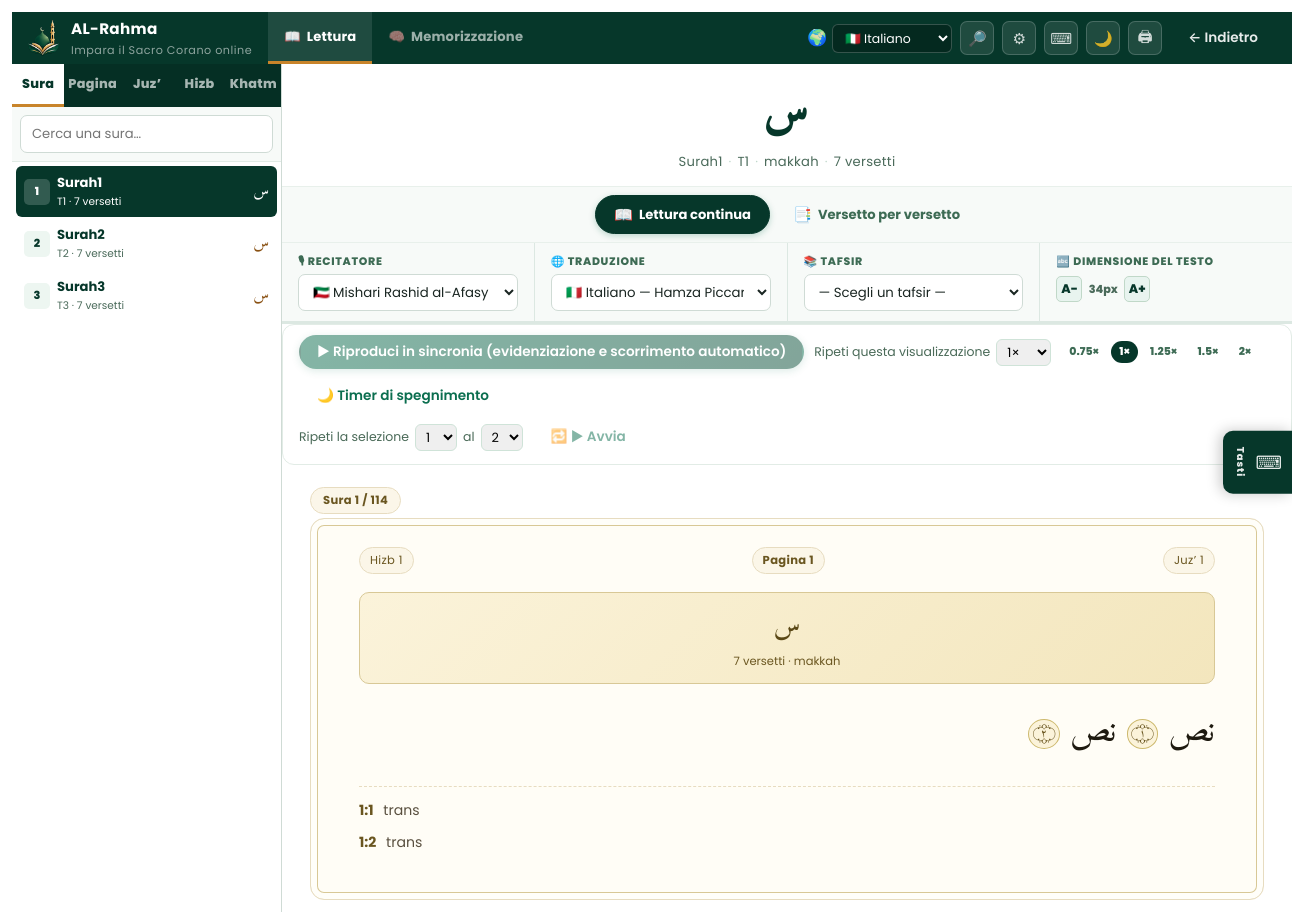
every reader panel is Italian on /it/ (no Arabic or English interface fallback) › verse-by-verse actions, the tafsir picker and the tafsir panel are Italian
Click the tab "📑 Versetto per versetto" at (876, 215), box [774, 195, 979, 234]
Wait 100 ms
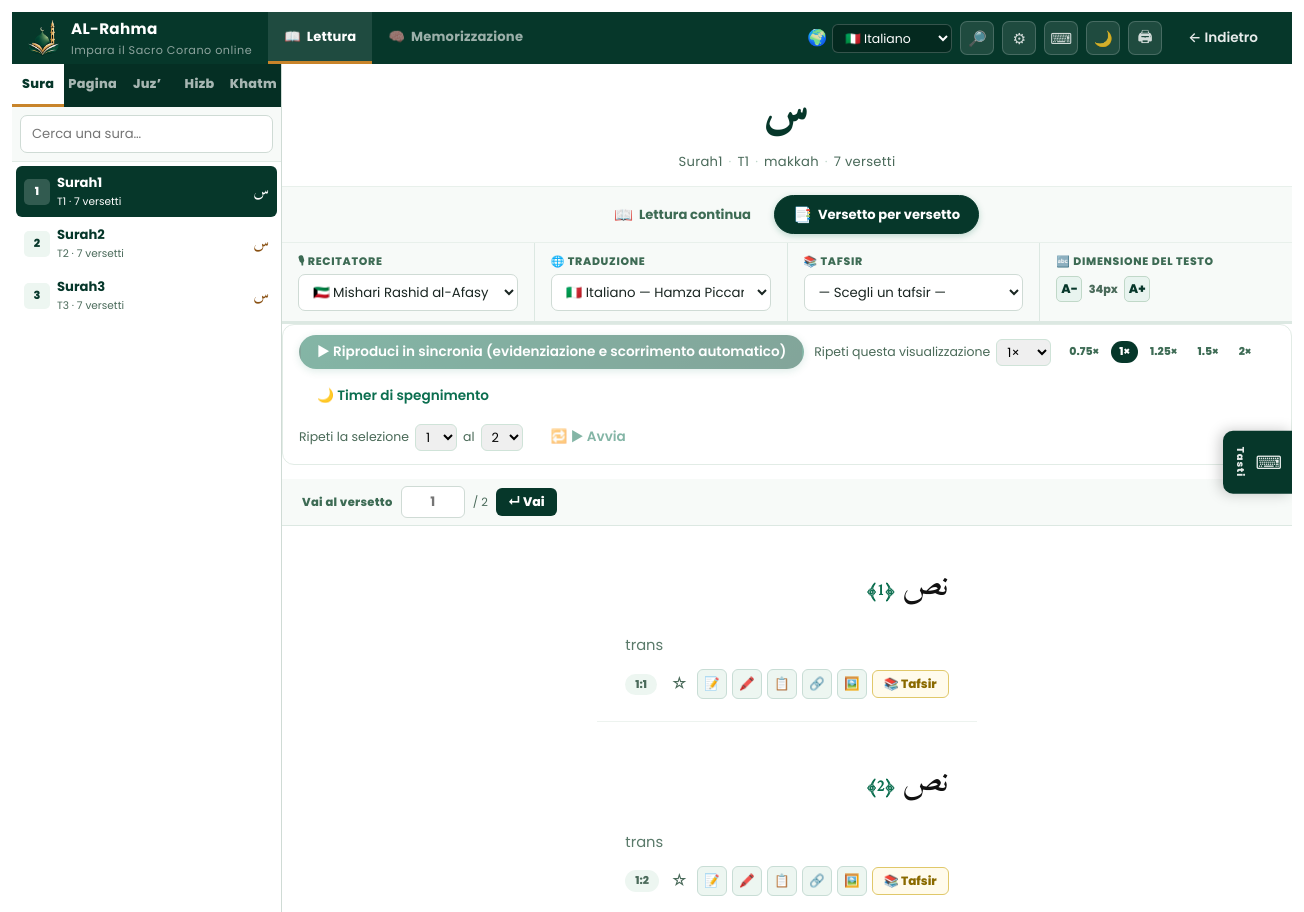
Expected: the text "↵ Vai" is shown, [496, 488, 557, 516]
Click the button "📚 Tafsir" in the row of "1:1" at (910, 684), box [872, 670, 949, 698]
Wait 100 ms
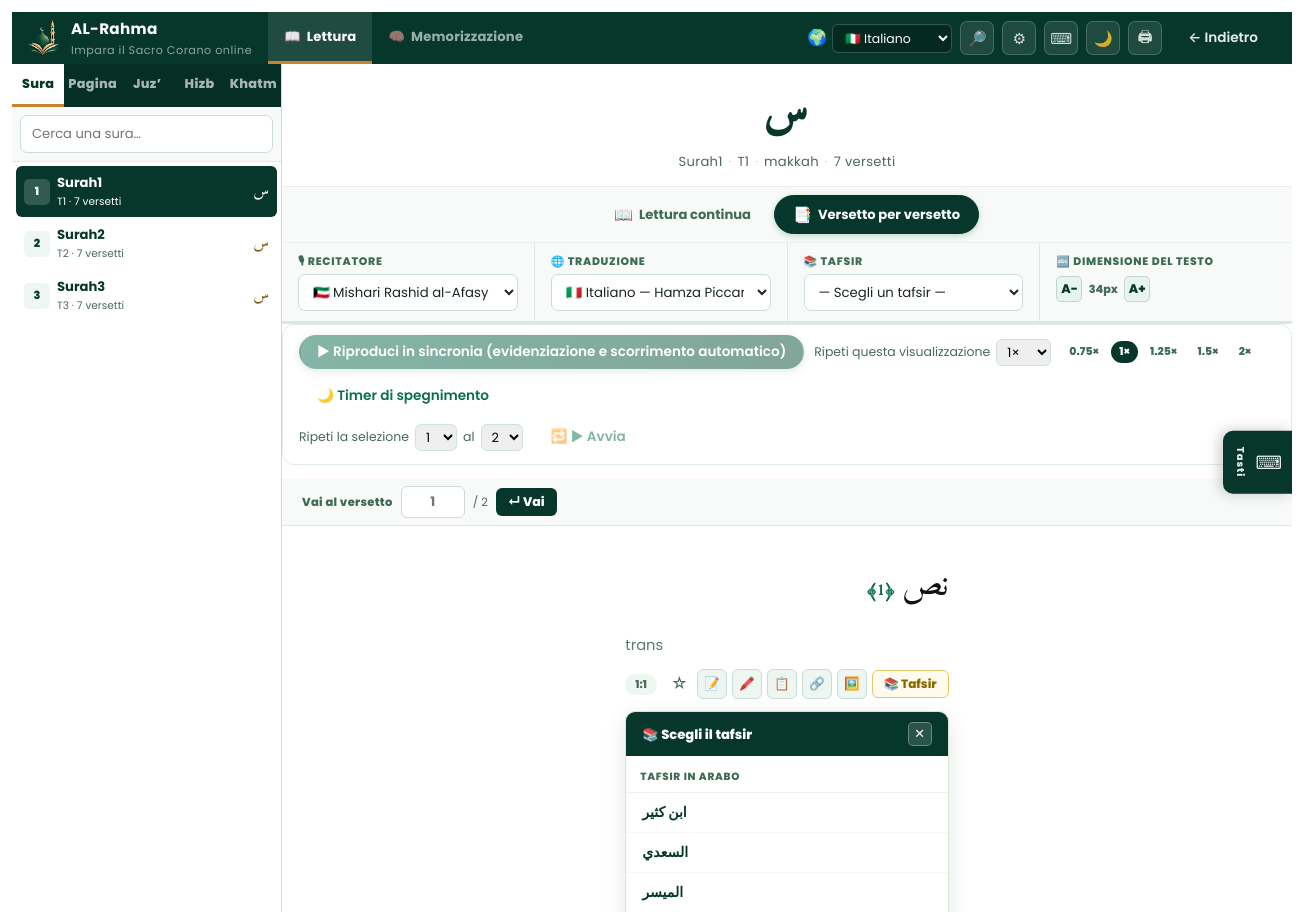
Expected: the text "📚 Scegli il tafsir" is shown, [642, 724, 752, 745]
Click the button "ابن كثير" at (665, 812), box [626, 793, 948, 833]
Wait 150 ms
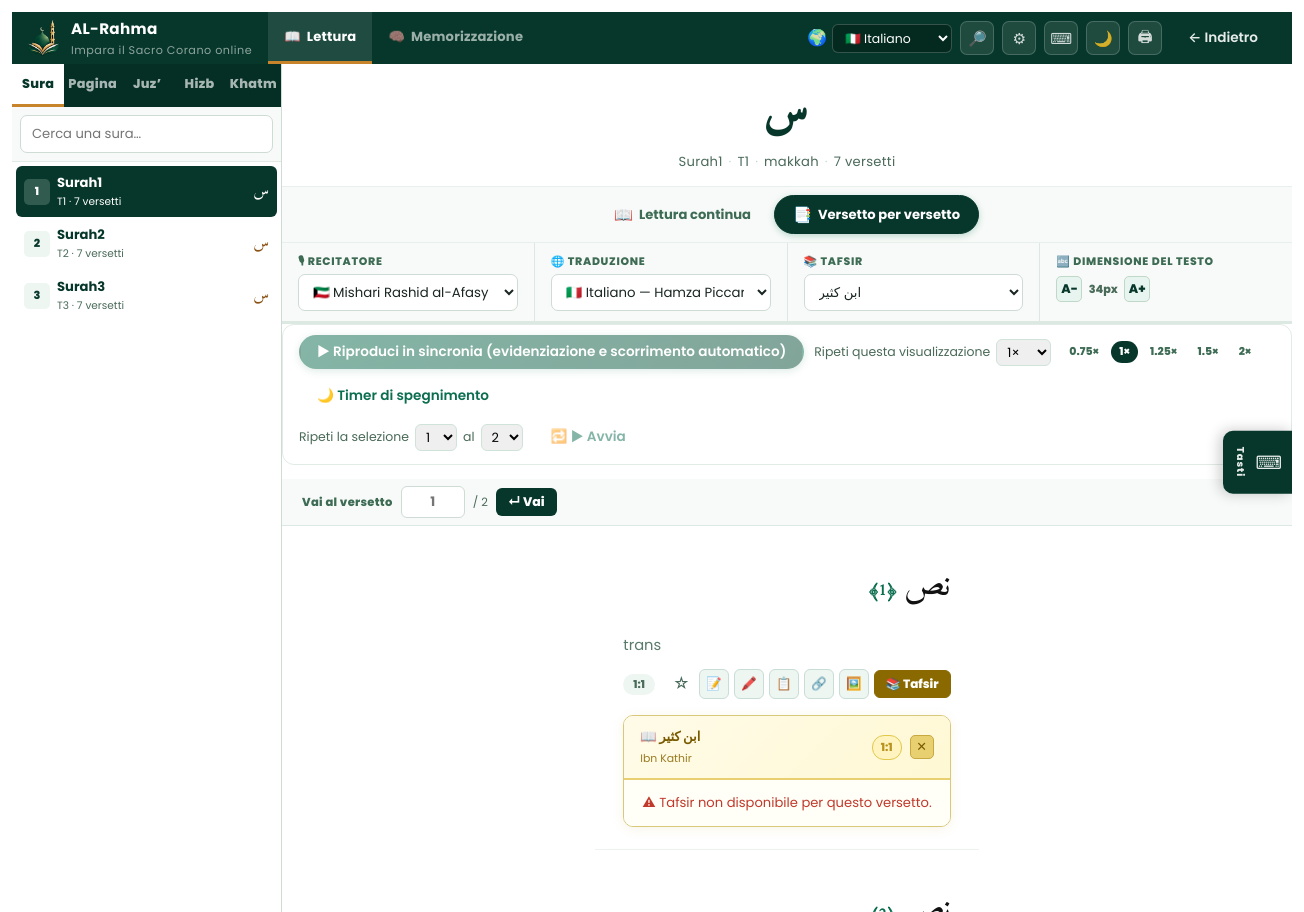
Expected: the message "⚠ Tafsir non disponibile per questo versetto." is shown, [624, 780, 950, 826]
